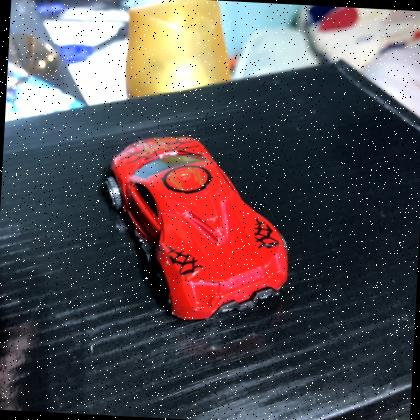Car: (93, 124, 306, 334)
